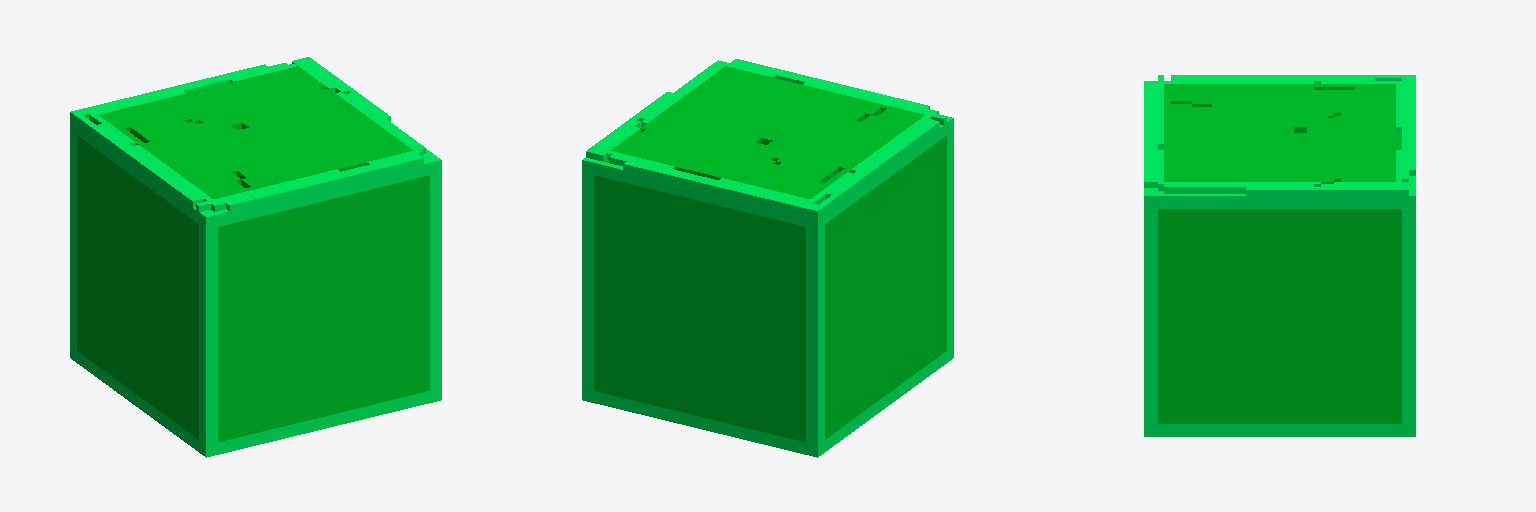
3 views of the same model, side by side, from view 1: azimuth 30°, elevation 25°; view 2: azimuth 150°, elevation 25°; view 3: azimuth 270°, elevation 25° (orthographic).
Visible parts, largest first — view 1: object 1; view 2: object 1; view 3: object 1.
Part boxes in pixels (x1,y1,x2,y2): object 1: (70, 57, 441, 457); object 1: (582, 59, 953, 457); object 1: (1144, 75, 1415, 436).
Size of the model in its own units: 4 by 4 by 4.
1 materials, 1 textured.